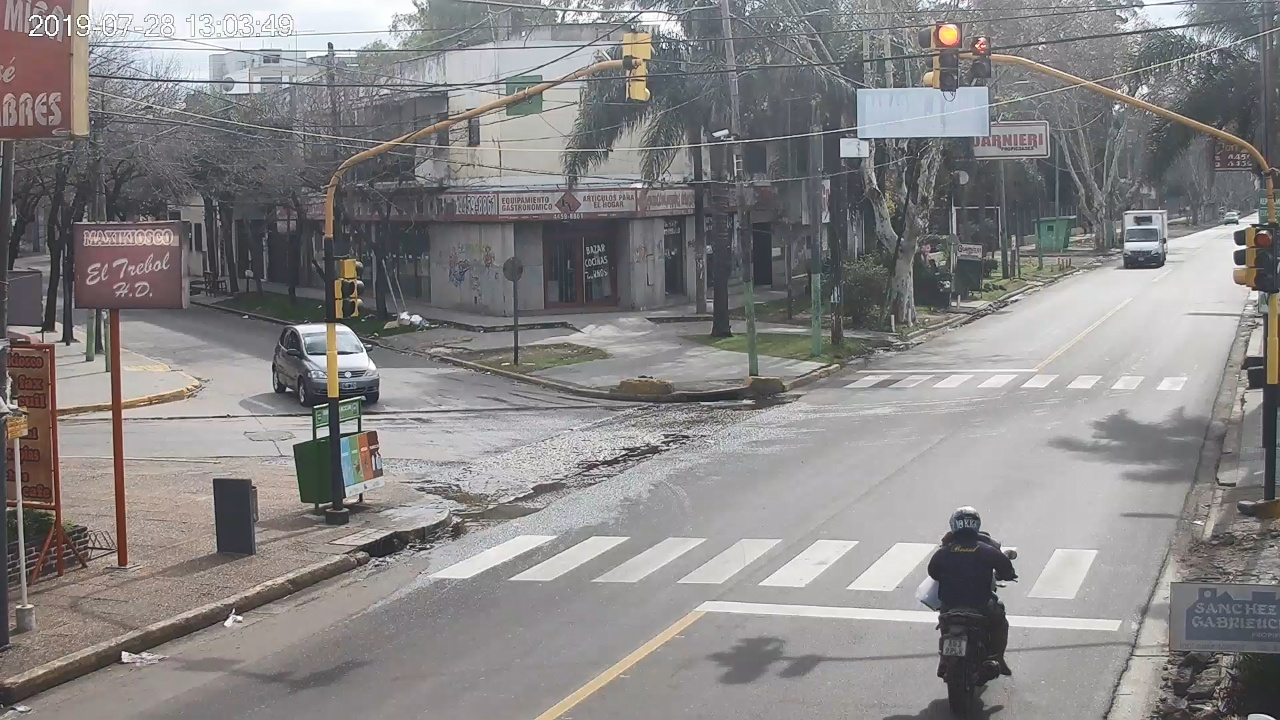motorcycle: (928, 533, 1018, 720)
traffic light: (939, 22, 960, 92), (1255, 228, 1272, 290)
